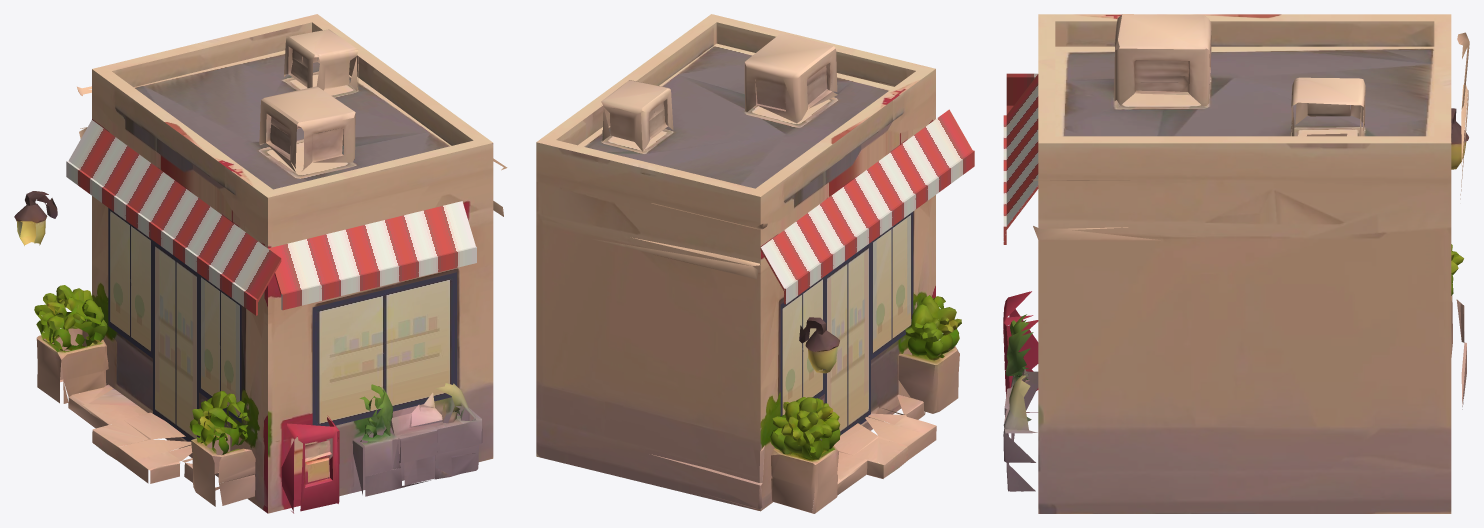
The model's file is m11_03_convenience_r270.glb.
The picture shows the model from 3 angles, left to right: view 1: azimuth 30°, elevation 25°; view 2: azimuth 150°, elevation 25°; view 3: azimuth 270°, elevation 25°; orthographic projection. The views are drawn at different scales.
Parts seen in each view (by area): view 1: shell, convenience_detail; view 2: shell, convenience_detail; view 3: shell, convenience_detail.
Boxes of the visible parts, left/top/right/bottom form: shell: left=66, top=14, right=493, bottom=513; convenience_detail: left=14, top=29, right=507, bottom=513; shell: left=536, top=14, right=974, bottom=511; convenience_detail: left=587, top=33, right=961, bottom=513; shell: left=1003, top=14, right=1451, bottom=513; convenience_detail: left=1003, top=14, right=1469, bottom=491.
Bounding box in the file's own units: 6.28 × 6.68 × 6.9.
6 materials, 6 textured.
